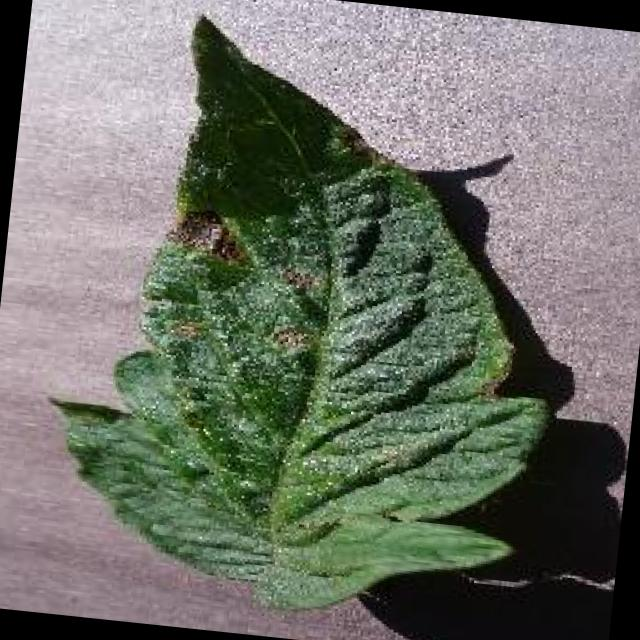Tomato_Early_Blight: (61, 0, 585, 610)
